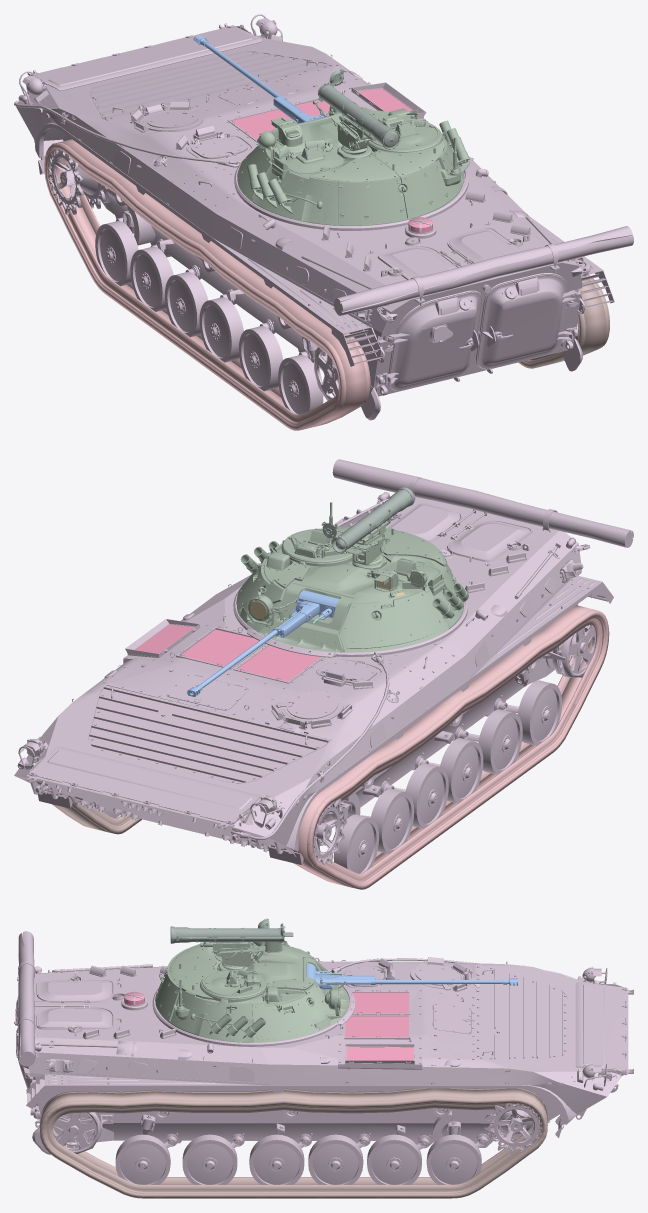
Rendered from bmp2.glb.
3 views of the same model, one above another, from view 1: azimuth 30°, elevation 25°; view 2: azimuth 150°, elevation 25°; view 3: azimuth 270°, elevation 25° (orthographic). The views are drawn at different scales.
Visible parts, largest first — view 1: V_bmp2__Body_2, V_bmp2__Body_1, V_bmp2__Body_3, V_bmp2__Body_6, V_bmp2__Turret_3, V_bmp2__Turret_2, V_bmp2__W20_1, V_bmp2__W21_1, V_bmp2__Body_7, V_bmp2__Body_5, V_bmp2__W06_1, V_bmp2__W17_1 (+6 smaller); view 2: V_bmp2__Body_2, V_bmp2__Body_1, V_bmp2__Body_3, V_bmp2__Body_6, V_bmp2__Turret_2, V_bmp2__Turret_3, V_bmp2__Body_5, V_bmp2__W21_1, V_bmp2__W22_1, V_bmp2__W18_1, V_bmp2__W20_1, V_bmp2__W19_1 (+6 smaller); view 3: V_bmp2__Body_2, V_bmp2__Body_1, V_bmp2__Body_7, V_bmp2__Body_3, V_bmp2__Turret_3, V_bmp2__Turret_2, V_bmp2__Body_5, V_bmp2__W13_1, V_bmp2__W14_1, V_bmp2__W12_1, V_bmp2__W15_1, V_bmp2__W16_1 (+5 smaller).
Boxes of the visible parts, bbox=[...] form: V_bmp2__Body_2: bbox=[14, 23, 633, 420]; V_bmp2__Body_1: bbox=[35, 50, 578, 387]; V_bmp2__Body_3: bbox=[19, 14, 583, 390]; V_bmp2__Body_6: bbox=[44, 139, 370, 430]; V_bmp2__Turret_3: bbox=[238, 98, 461, 224]; V_bmp2__Turret_2: bbox=[237, 108, 470, 225]; V_bmp2__W20_1: bbox=[199, 297, 243, 362]; V_bmp2__W21_1: bbox=[238, 326, 283, 391]; V_bmp2__Body_7: bbox=[518, 274, 609, 368]; V_bmp2__Body_5: bbox=[231, 88, 432, 232]; V_bmp2__W06_1: bbox=[47, 143, 107, 214]; V_bmp2__W17_1: bbox=[95, 221, 138, 286]; V_bmp2__Body_2: bbox=[14, 459, 633, 853]; V_bmp2__Body_1: bbox=[38, 496, 591, 864]; V_bmp2__Body_3: bbox=[18, 498, 583, 845]; V_bmp2__Body_6: bbox=[286, 605, 609, 889]; V_bmp2__Turret_2: bbox=[236, 520, 468, 652]; V_bmp2__Turret_3: bbox=[237, 502, 456, 648]; V_bmp2__Body_5: bbox=[135, 624, 320, 681]; V_bmp2__W21_1: bbox=[478, 709, 522, 774]; V_bmp2__W22_1: bbox=[517, 680, 561, 745]; V_bmp2__W18_1: bbox=[370, 788, 414, 853]; V_bmp2__W20_1: bbox=[440, 738, 483, 803]; V_bmp2__W19_1: bbox=[405, 763, 448, 828]; V_bmp2__Body_2: bbox=[17, 931, 633, 1154]; V_bmp2__Body_1: bbox=[16, 957, 568, 1147]; V_bmp2__Body_7: bbox=[40, 1088, 547, 1198]; V_bmp2__Body_3: bbox=[14, 964, 626, 1149]; V_bmp2__Turret_3: bbox=[155, 918, 346, 1039]; V_bmp2__Turret_2: bbox=[160, 932, 349, 1042]; V_bmp2__Body_5: bbox=[124, 992, 413, 1060]; V_bmp2__W13_1: bbox=[308, 1134, 363, 1184]; V_bmp2__W14_1: bbox=[249, 1134, 304, 1184]; V_bmp2__W12_1: bbox=[367, 1134, 421, 1184]; V_bmp2__W15_1: bbox=[182, 1134, 237, 1184]; V_bmp2__W16_1: bbox=[115, 1134, 170, 1184].
Bounding box in the file's own units: 8.72 × 7.42 × 18.9.
